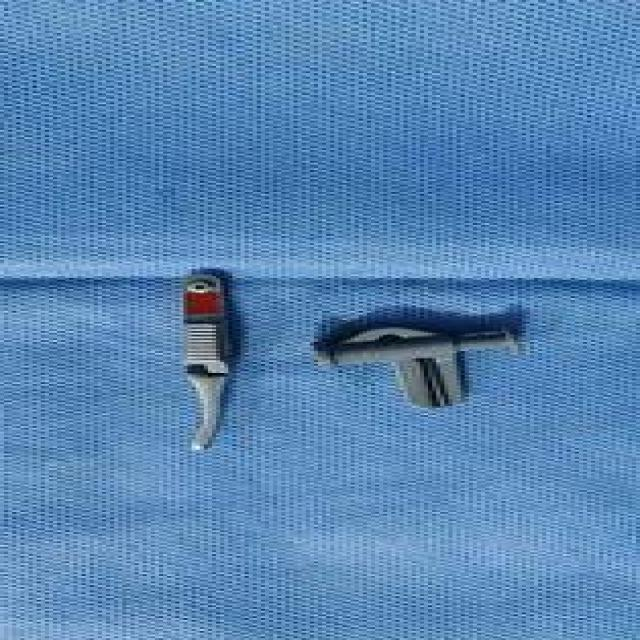Bulldog: (302, 314, 534, 416), (167, 265, 249, 461)
